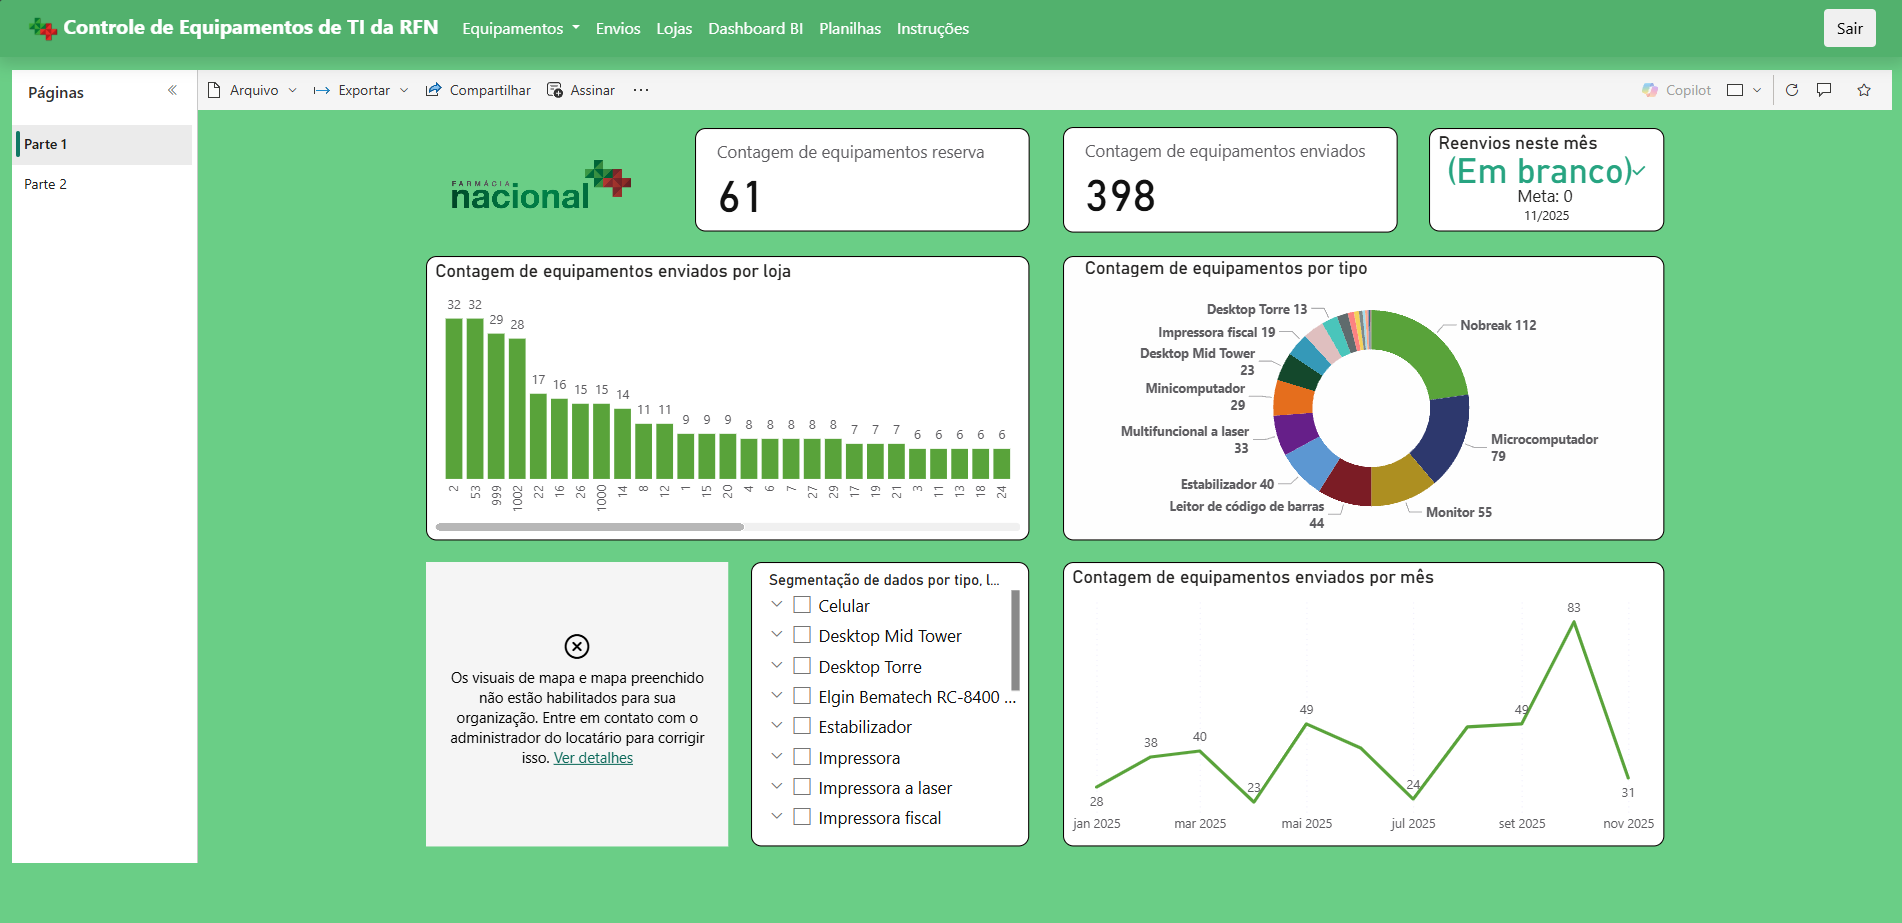

This screenshot's page, from the dashboard's own definition file:
{"tool":"powerbi","page":{"name":"Parte 1","canvas":[1280,720],"ordinal":0},"visuals":[{"type":"cardVisual","fields":{"Data":["controle_equipamentos_ti equipamento.Quantidade Total de Equipamentos"]},"box":[305.3,17.3,319.7,99.4],"z":0},{"type":"cardVisual","fields":{"Data":["envio.Contagem de equipamentos enviados"]},"box":[656.6,15.8,319.7,100.8],"z":1000},{"type":"donutChart","title":"Contagem de equipamentos por tipo","fields":{"Y":["CountNonNull(controle_equipamentos_ti equipamento.pk_num_serie)"],"Category":["controle_equipamentos_ti equipamento.tipo"]},"box":[656.6,139.7,574.6,272.2],"z":2000},{"type":"map","title":"Contagem de equipamentos enviados por cidades","fields":{"Category":["envio_atual.loja.cidade"],"Size":["envio_atual.Contagem de equipamentos enviados"]},"box":[47.5,432,289.4,272.2],"z":3000},{"type":"lineChart","title":"Contagem de equipamentos enviados por mês","fields":{"Y":["CountNonNull(controle_equipamentos_ti envio_equipamento.fk_num_serie)"],"Category":["envio_atual.data_envio.Variation.Hierarquia de datas.Ano","envio_atual.data_envio.Variation.Hierarquia de datas.Mês"]},"box":[656.6,432,574.6,272.2],"z":4000},{"type":"clusteredColumnChart","title":"Contagem de equipamentos enviados por loja","fields":{"Category":["controle_equipamentos_ti envio_equipamento.fk_loja"],"Y":["envio.Contagem de equipamentos enviados"]},"box":[47.5,139.7,577.4,272.2],"z":5000},{"type":"kpi","title":"Reenvios neste mês","fields":{"TrendLine":["envio_atual.MêsAno"],"Goal":["envio_atual.Meta0"],"Indicator":["CountNonNull(envio_atual.Reenvios do mês)"]},"box":[1006.6,17.3,224.6,99.4],"z":6000},{"type":"image","box":[11.5,24.5,293.8,92.2],"z":7000},{"type":"slicer","fields":{"Values":["equipamento.tipo","envio_atual.fk_loja"]},"box":[358.6,432,266.4,272.2],"z":8000}]}

Visuals, with their boxes on the page's 1280x720 design canvas (x1, y1, x2, y2). These are canvas units, not pixel positions in the 1902x923 screenshot, which may show the page scaled, cropped or inside an application window:
cardVisual - controle_equipamentos_ti equipamento.Quantidade Total de Equipamentos: [left=305, top=17, right=625, bottom=117]
cardVisual - envio.Contagem de equipamentos enviados: [left=657, top=16, right=976, bottom=117]
"Contagem de equipamentos por tipo" donutChart: [left=657, top=140, right=1231, bottom=412]
"Contagem de equipamentos enviados por cidades" map: [left=48, top=432, right=337, bottom=704]
"Contagem de equipamentos enviados por mês" lineChart: [left=657, top=432, right=1231, bottom=704]
"Contagem de equipamentos enviados por loja" clusteredColumnChart: [left=48, top=140, right=625, bottom=412]
"Reenvios neste mês" kpi: [left=1007, top=17, right=1231, bottom=117]
image: [left=12, top=24, right=305, bottom=117]
slicer - equipamento.tipo x envio_atual.fk_loja: [left=359, top=432, right=625, bottom=704]
